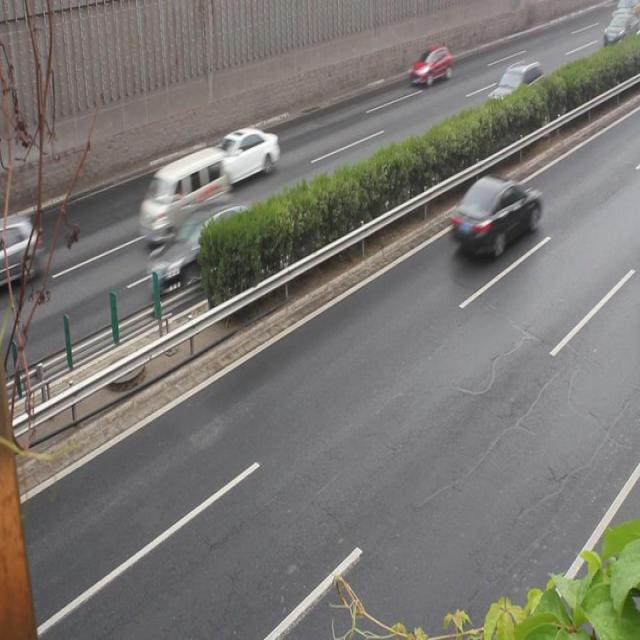car: (148, 198, 266, 294), (453, 174, 542, 256), (201, 128, 278, 186), (486, 59, 543, 121), (0, 214, 42, 287), (408, 44, 452, 90)
truck: (141, 144, 228, 245)
